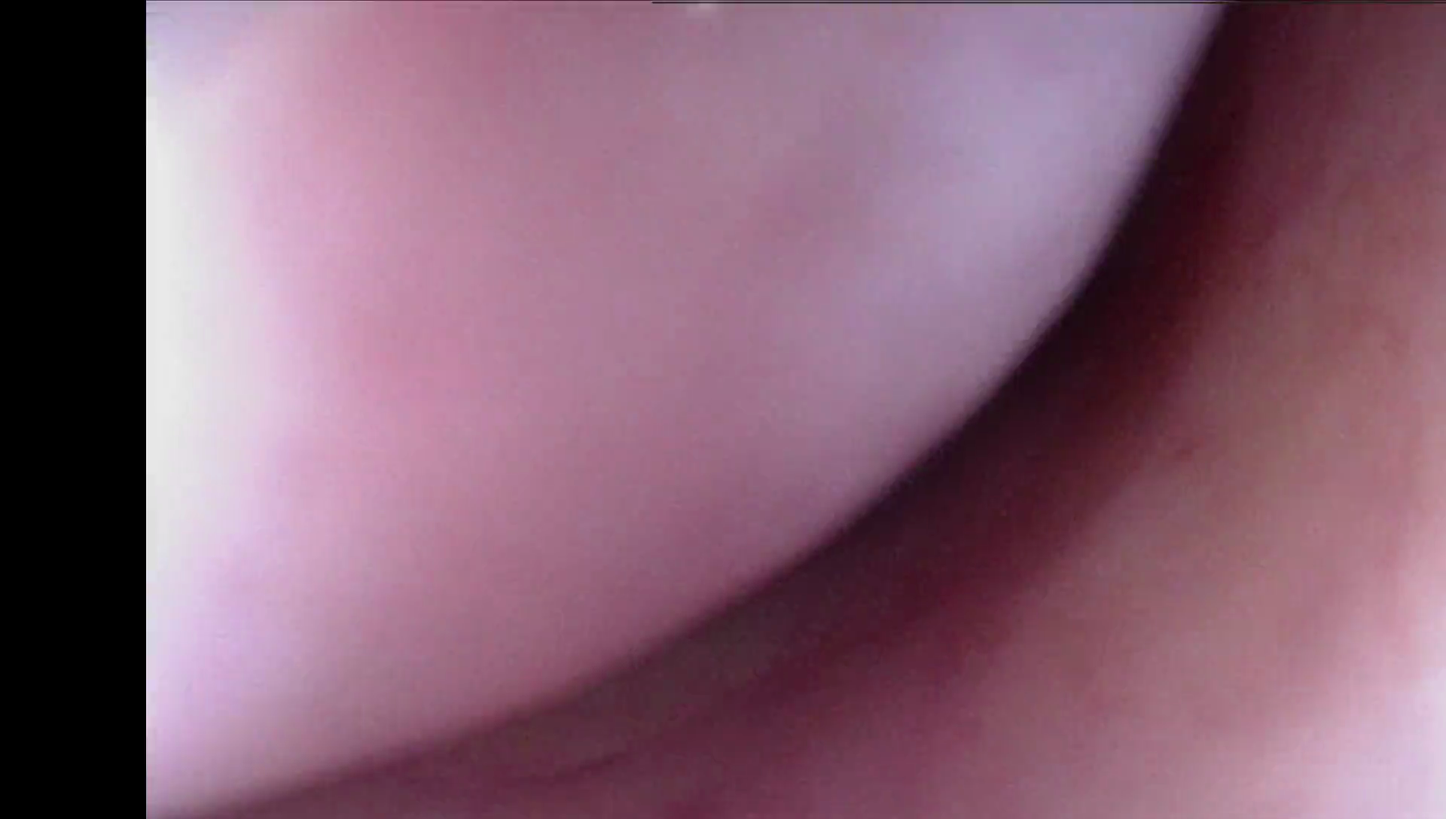close_wall: (154, 7, 532, 808), (1102, 555, 1446, 819)
next: (894, 26, 1264, 508)
